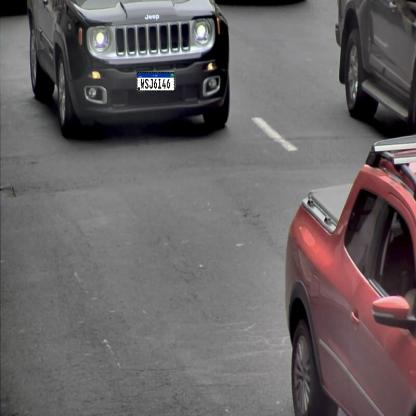PlacaM: (136, 72, 174, 92)
